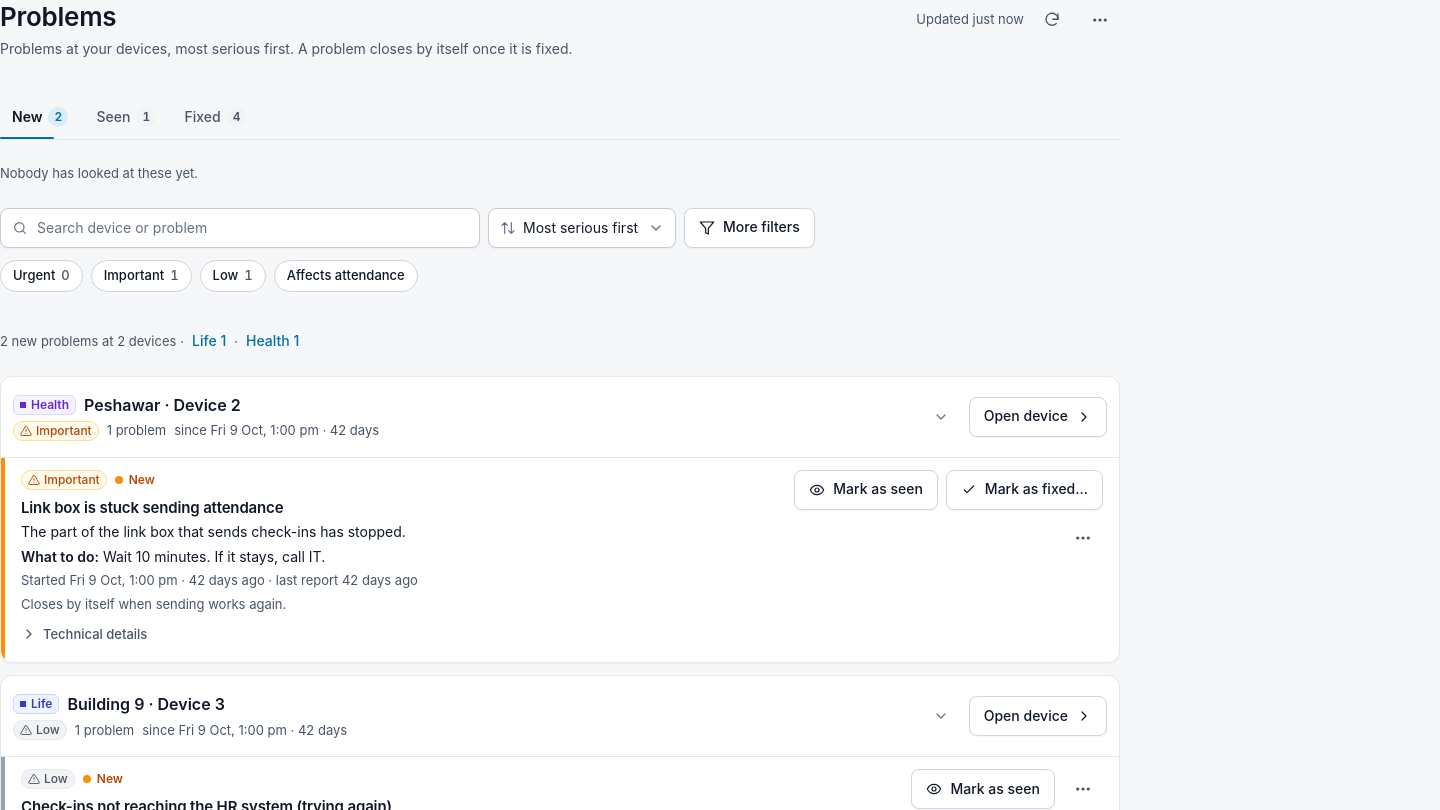
Scenario: Problems page › keeps the reason and the password to mark as fixed, explains a refusal and keeps one request key
This screenshot has width=1440, height=810.
Click the button "Mark as fixed…" at x=1024, y=490, box [946,470,1103,510]
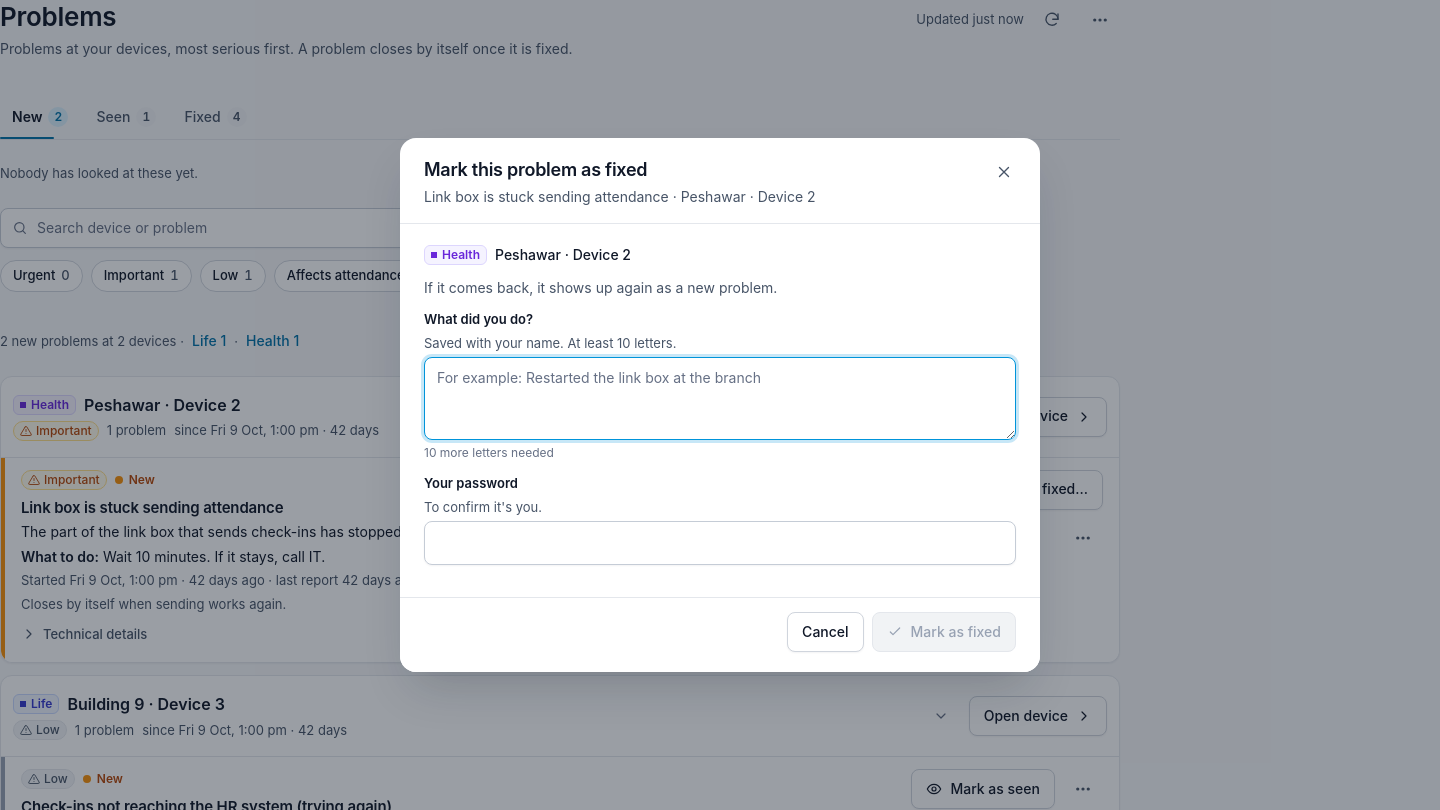
Now the button "Mark as fixed" is disabled, box [872,612,1016,652]
Type "Too short" into the text box labelled "What did you do?" at x=720, y=399, box [424,357,1016,440]
Type "local-step-up" into the password field labelled "Your password" at x=720, y=543, box [424,521,1016,565]
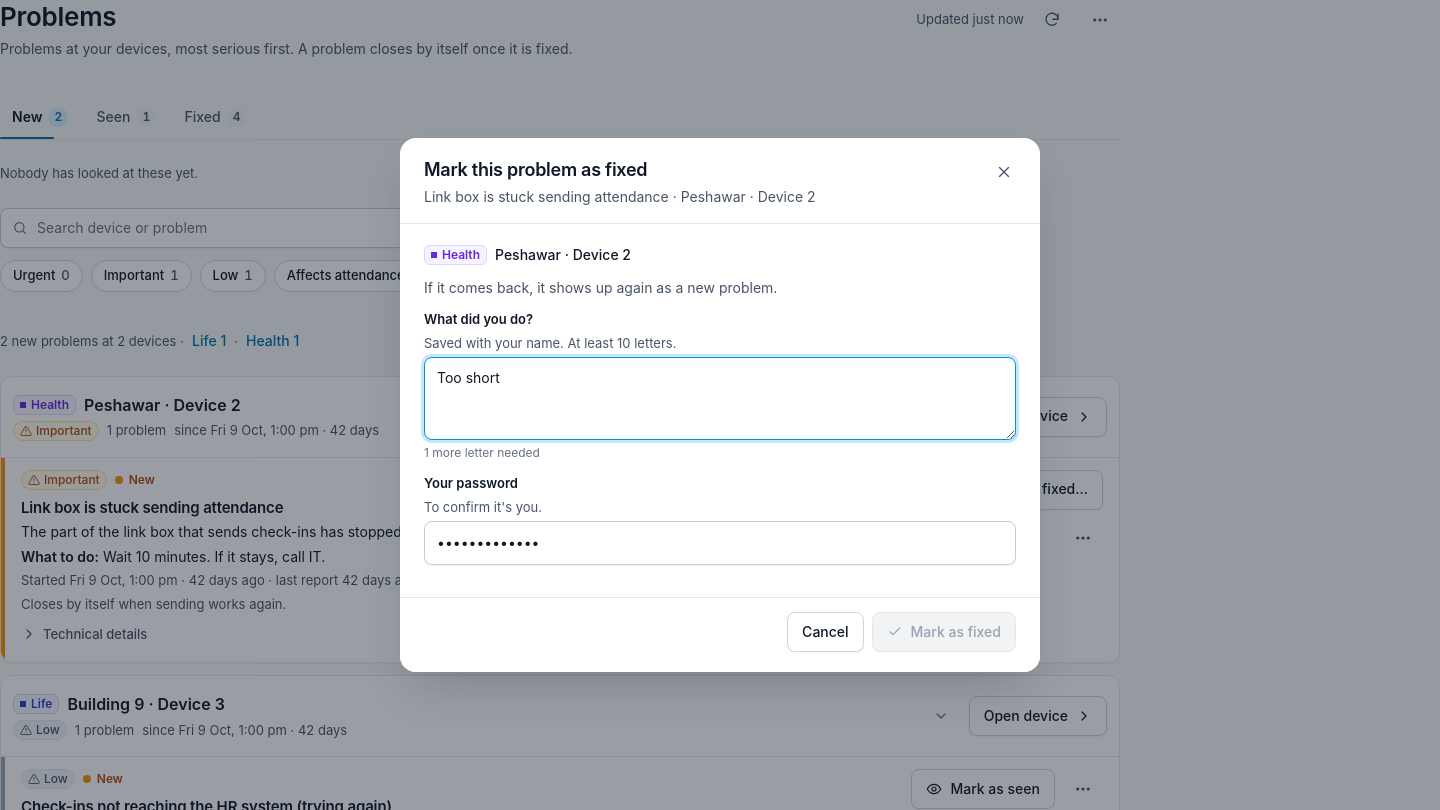
Now the button "Mark as fixed" is disabled, box [872,612,1016,652]
Now the text "1 more letter needed" is shown, box [424,445,540,460]
Replace the text in the text box labelled "What did you do?" with "Raised under the 2.6.27 recovery image; 2.5.2 cannot report workers." at x=720, y=399, box [424,357,1016,440]
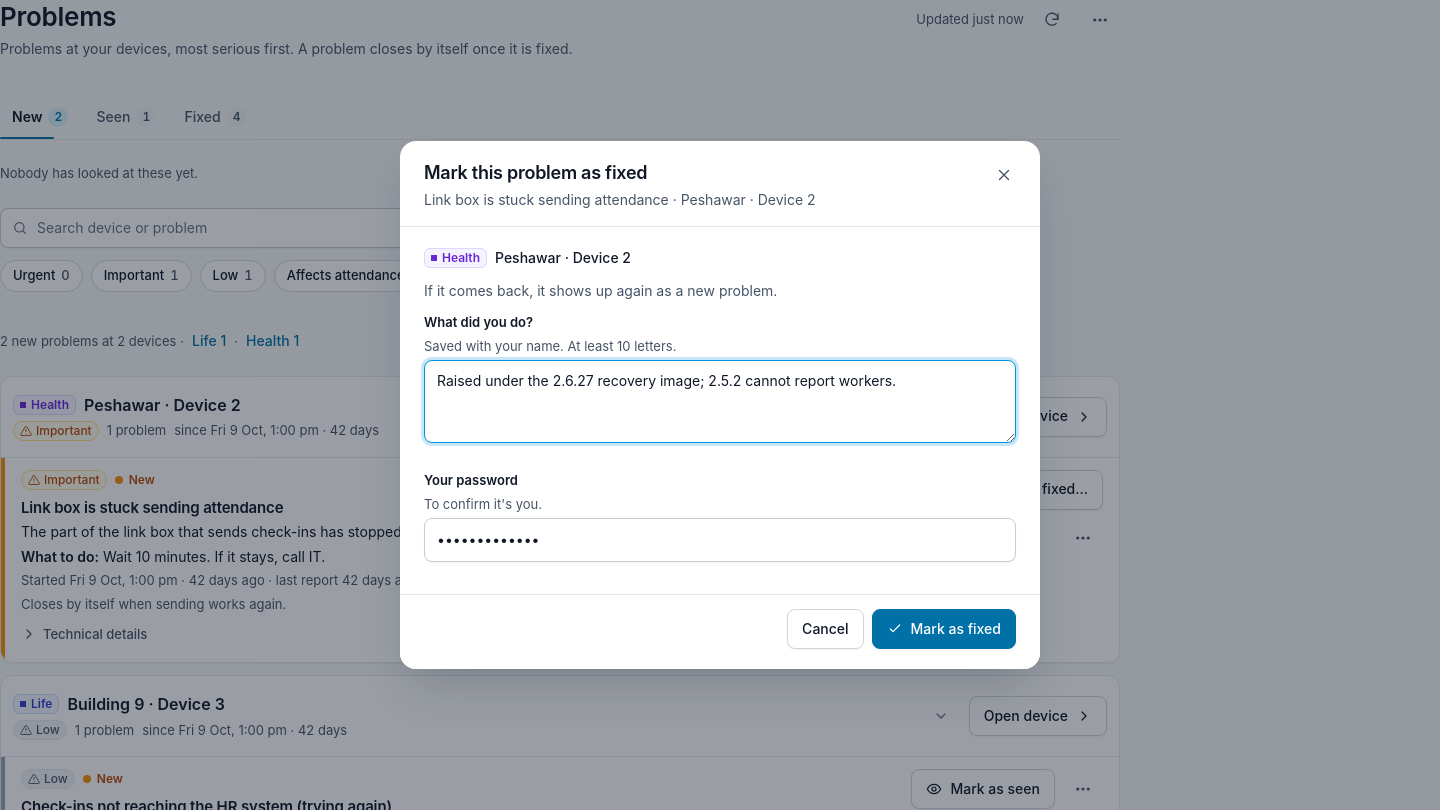
Now the text "more letter" is gone
Now the button "Mark as fixed" is enabled
Click the button "Mark as fixed" at x=944, y=629, box [872,609,1016,649]
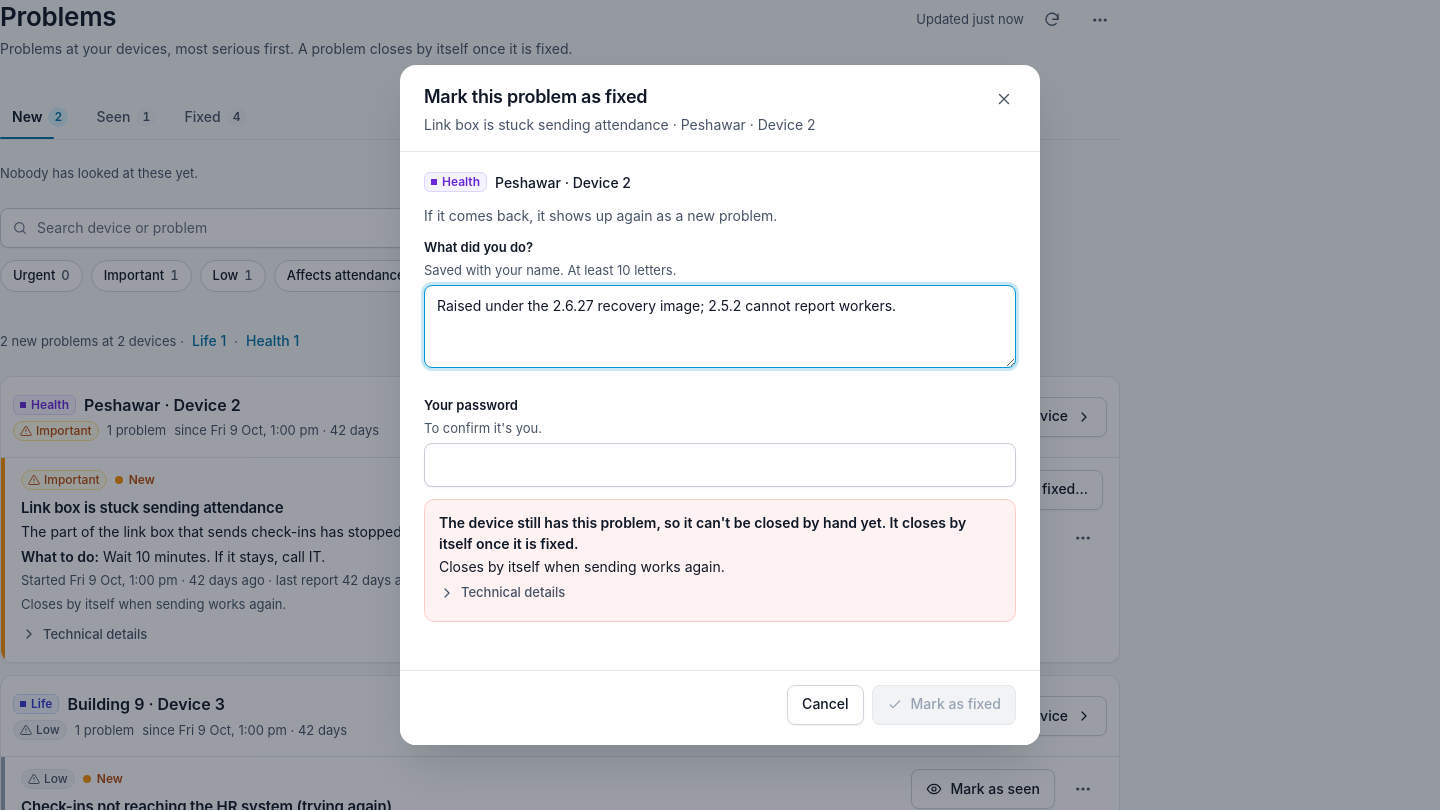
Now the text "The device still has this problem, so it can't be closed by hand yet" is shown, box [439,514,966,552]
Now the text "Closes by itself when sending works again." is shown, box [439,558,725,575]
Now the password field labelled "Your password" is empty
Type "local-step-up" into the password field labelled "Your password" at x=720, y=465, box [424,443,1016,487]
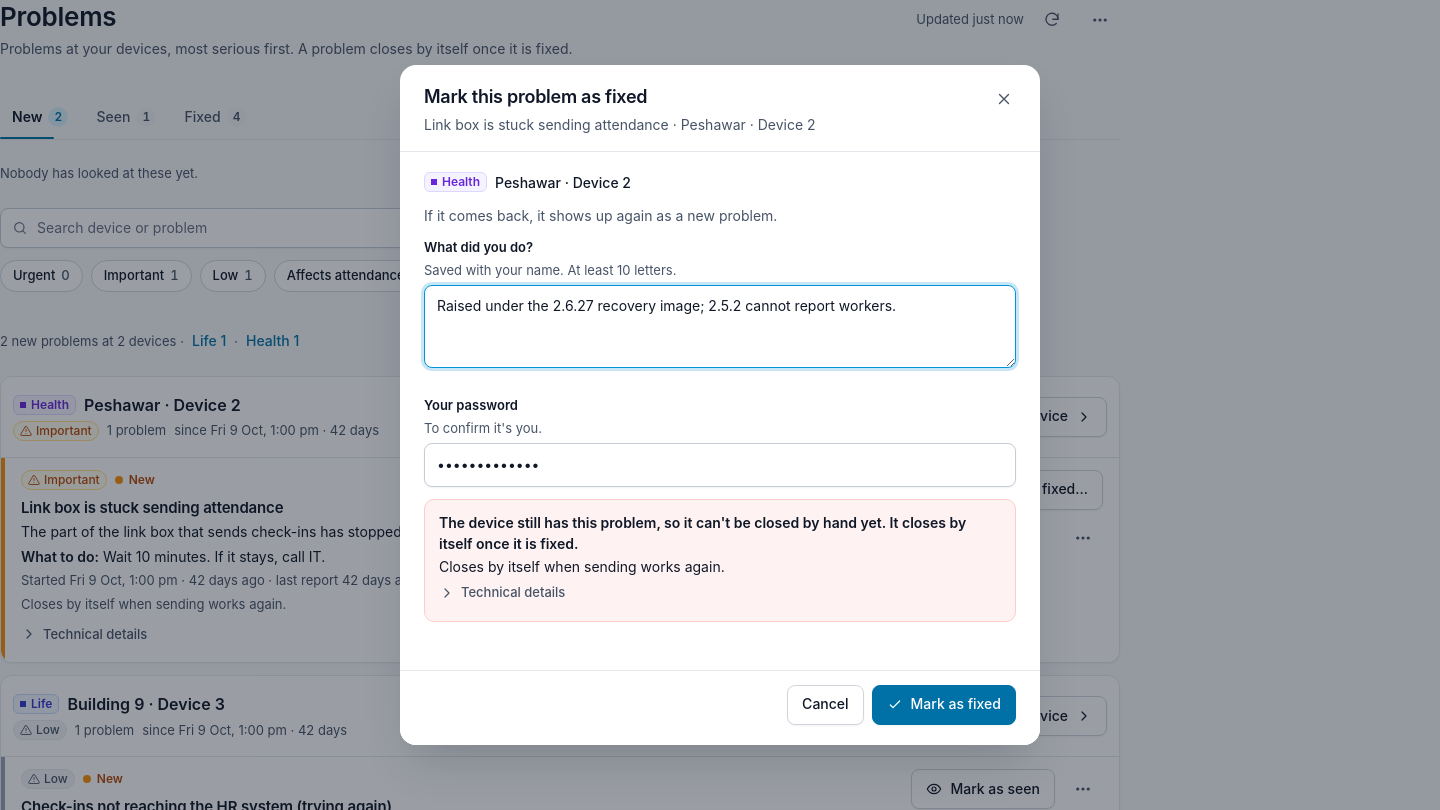
Click the button "Mark as fixed" at x=944, y=705, box [872,685,1016,725]
(page scrolled)
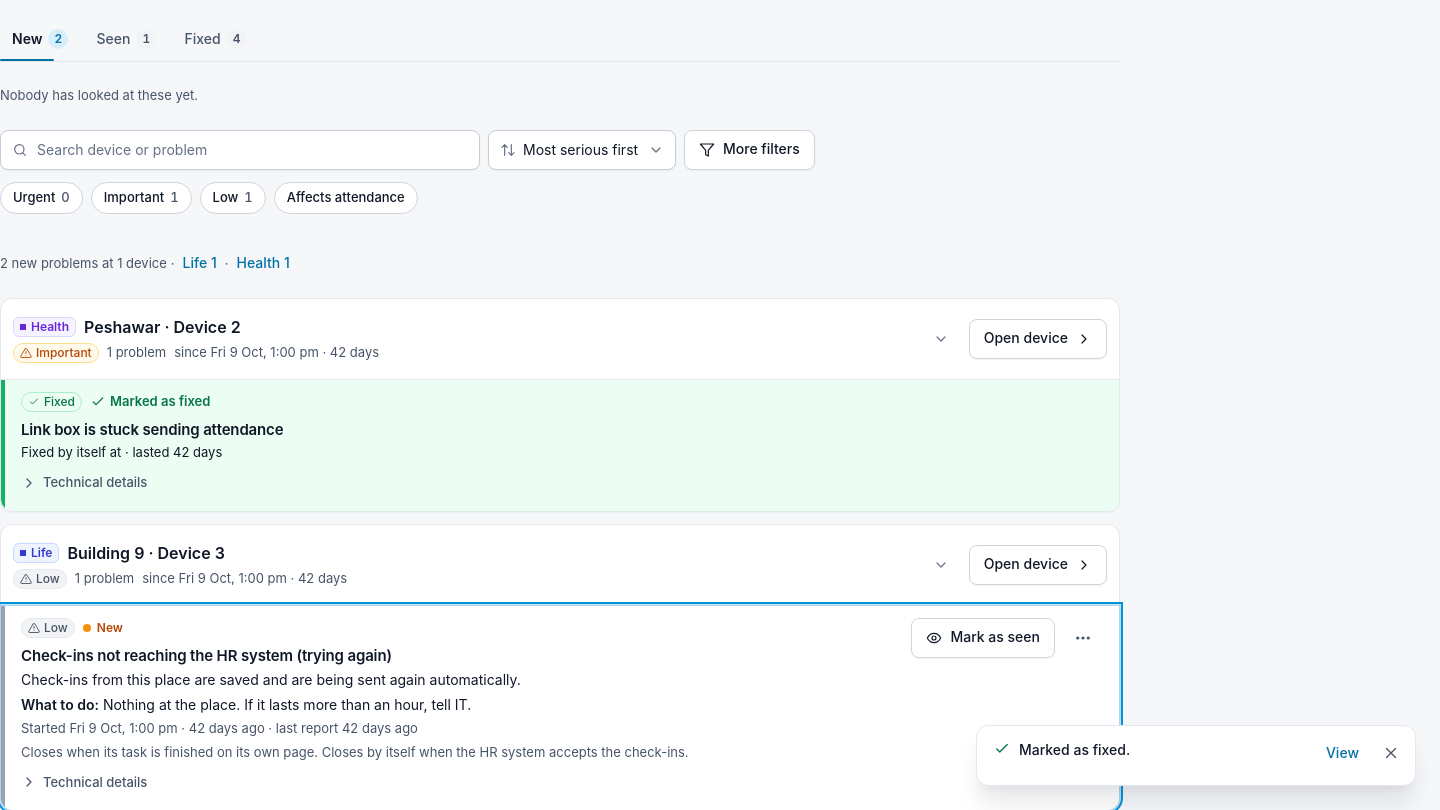
Now the text "Marked as fixed." is shown, box [1019,741,1130,758]
Now the heading "Mark this problem as fixed" is gone
Now the text "Marked as fixed" is shown, box [90,392,210,412]
